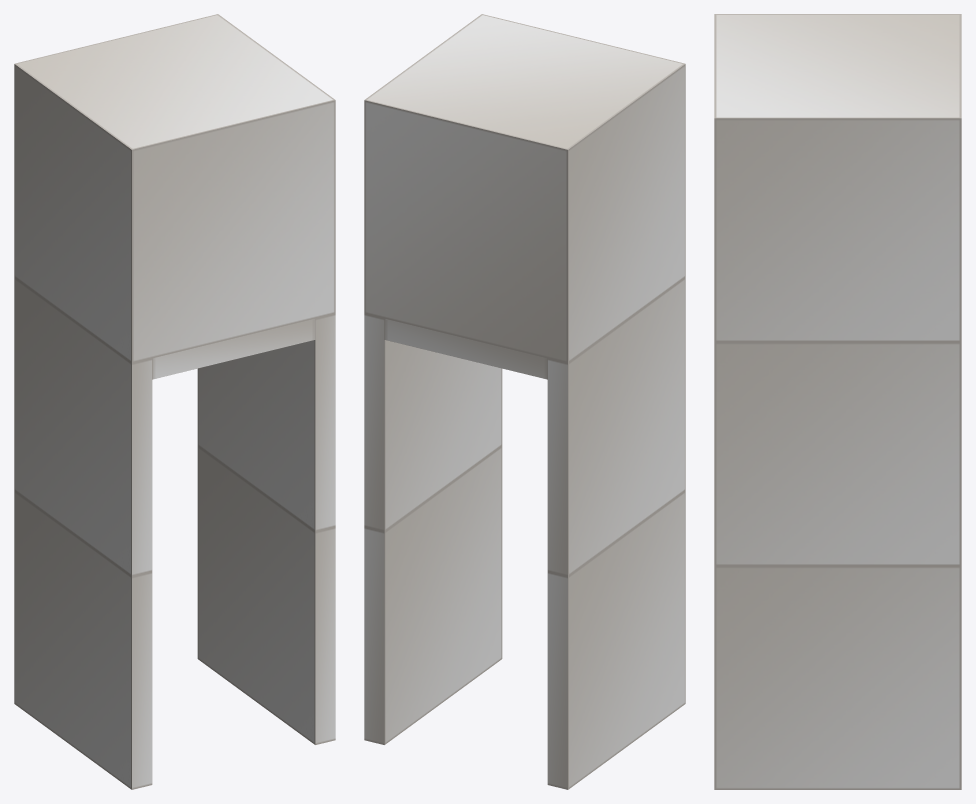
File: scene_placeholder_door.fbx
3 renders of one model, left to right at view 1: azimuth 30°, elevation 25°; view 2: azimuth 150°, elevation 25°; view 3: azimuth 270°, elevation 25°, orthographic. The views are drawn at different scales.
Visible parts, largest first — view 1: polySurface1; view 2: polySurface1; view 3: polySurface1.
Part boxes in pixels (x1,y1,x2,y2): polySurface1: (14,14,335,789); polySurface1: (364,14,685,789); polySurface1: (714,14,961,789).
Bounding box in the file's own units: 1 × 3 × 1.
Materials: 1 (1 with a texture image).
